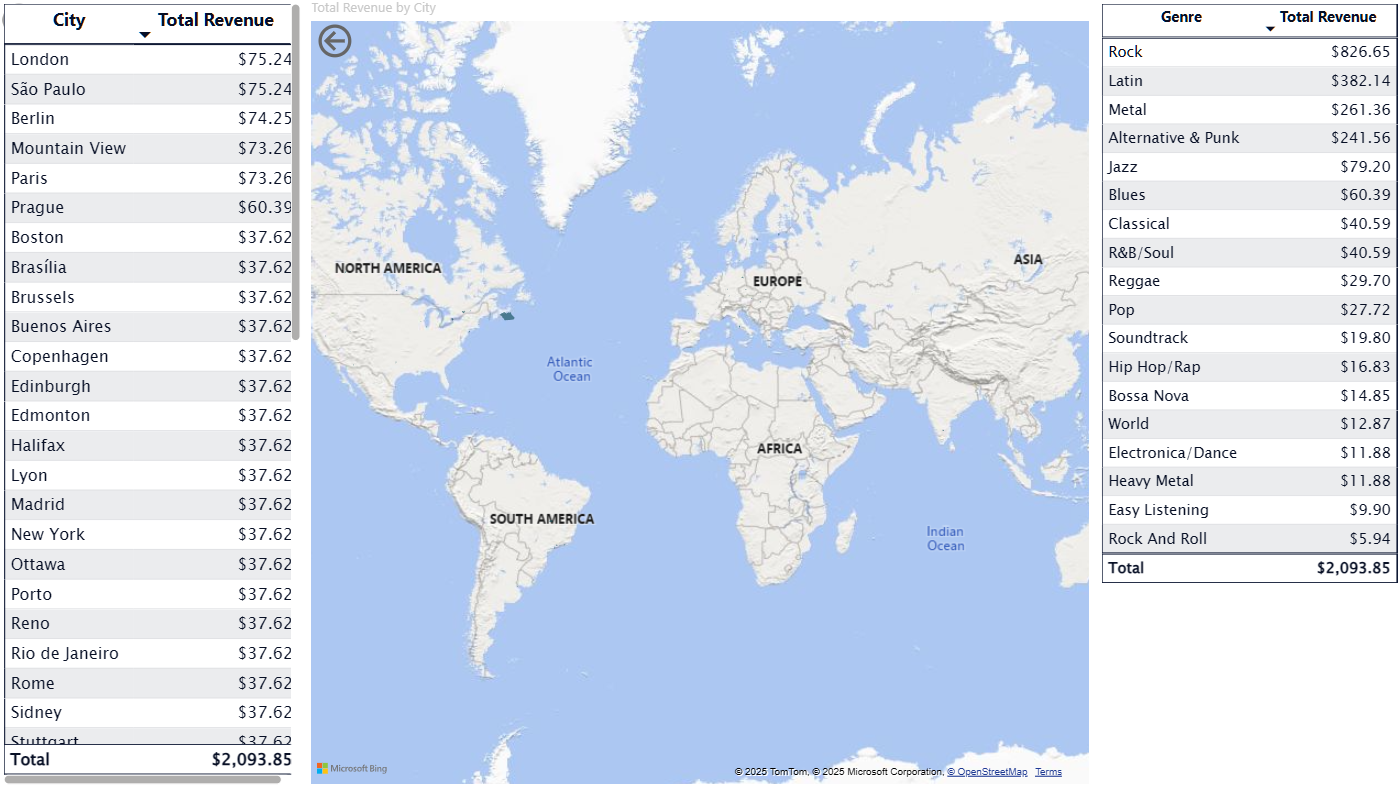

The page's visual inventory and layout, read from the dashboard file:
{"tool":"powerbi","page":{"name":"City Map","canvas":[1280,720],"ordinal":1},"visuals":[{"type":"actionButton","box":[0,0,100,40],"z":0},{"type":"tableEx","fields":{"Values":["chinook_genre_origin_revenue.BillingCity","Sum(chinook_genre_origin_revenue.TotalRevenue)"]},"box":[0,0,281.2,720],"z":1000},{"type":"actionButton","box":[312.7,20.1,49.9,40.3],"z":2000},{"type":"filledMap","fields":{"Category":["chinook_genre_origin_revenue.BillingCity"]},"box":[281.2,0,717.4,720],"z":3000},{"type":"tableEx","fields":{"Values":["chinook_genre_origin_revenue.Genre","Sum(chinook_genre_origin_revenue.TotalRevenue)"]},"box":[998.5,0,281.2,720],"z":4000},{"type":"actionButton","box":[286.9,19.5,100.2,39.9],"z":5000}]}

Visuals, with their boxes in screenshot pixels (x1, y1, x2, y2), scaled from the page's 1280x720 canvas onto the 1400x787 screenshot:
actionButton: rect(0, 0, 109, 44)
tableEx - chinook_genre_origin_revenue.BillingCity x Sum(chinook_genre_origin_revenue.TotalRevenue): rect(0, 0, 308, 786)
actionButton: rect(342, 22, 397, 66)
filledMap - chinook_genre_origin_revenue.BillingCity: rect(308, 0, 1092, 786)
tableEx - chinook_genre_origin_revenue.Genre x Sum(chinook_genre_origin_revenue.TotalRevenue): rect(1092, 0, 1399, 786)
actionButton: rect(314, 21, 423, 65)
